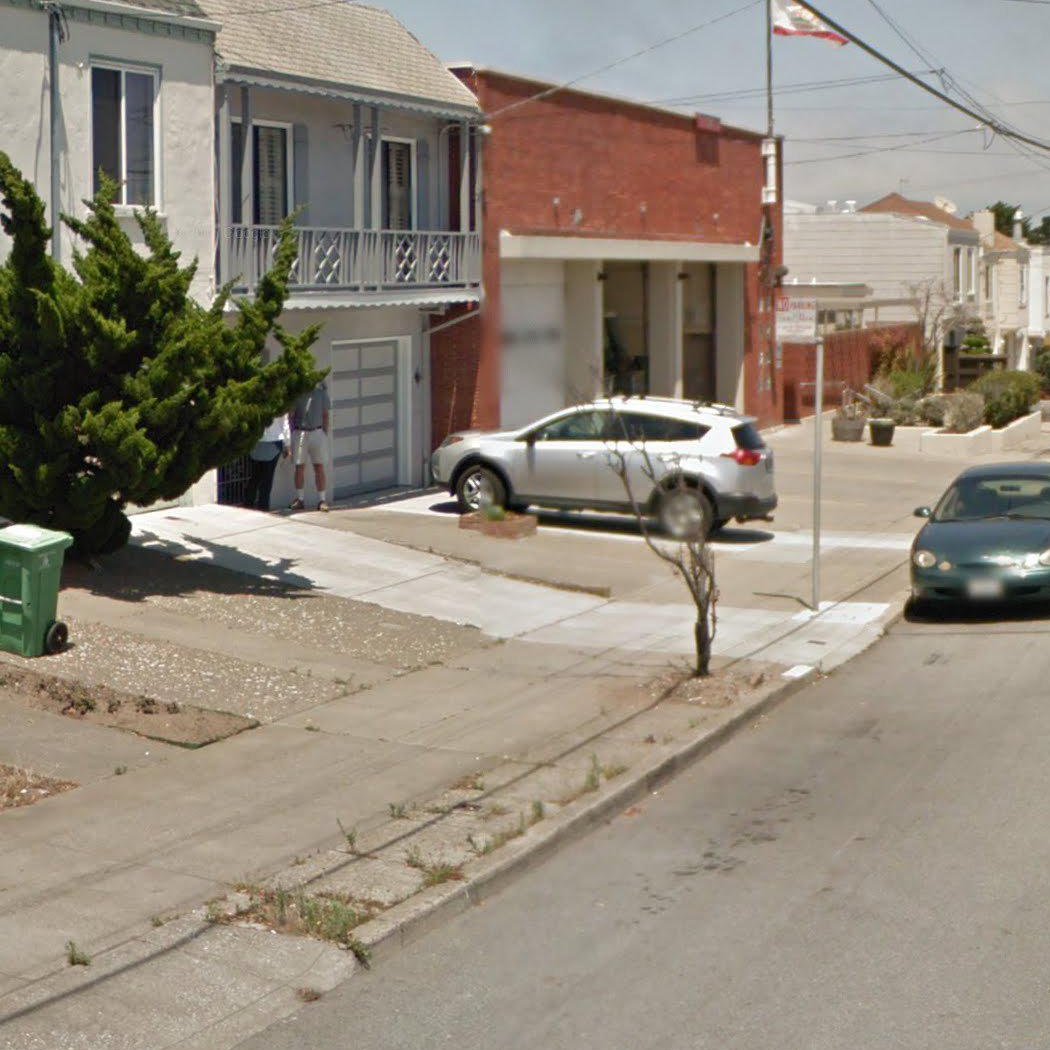No Parking: (772, 292, 819, 345)
